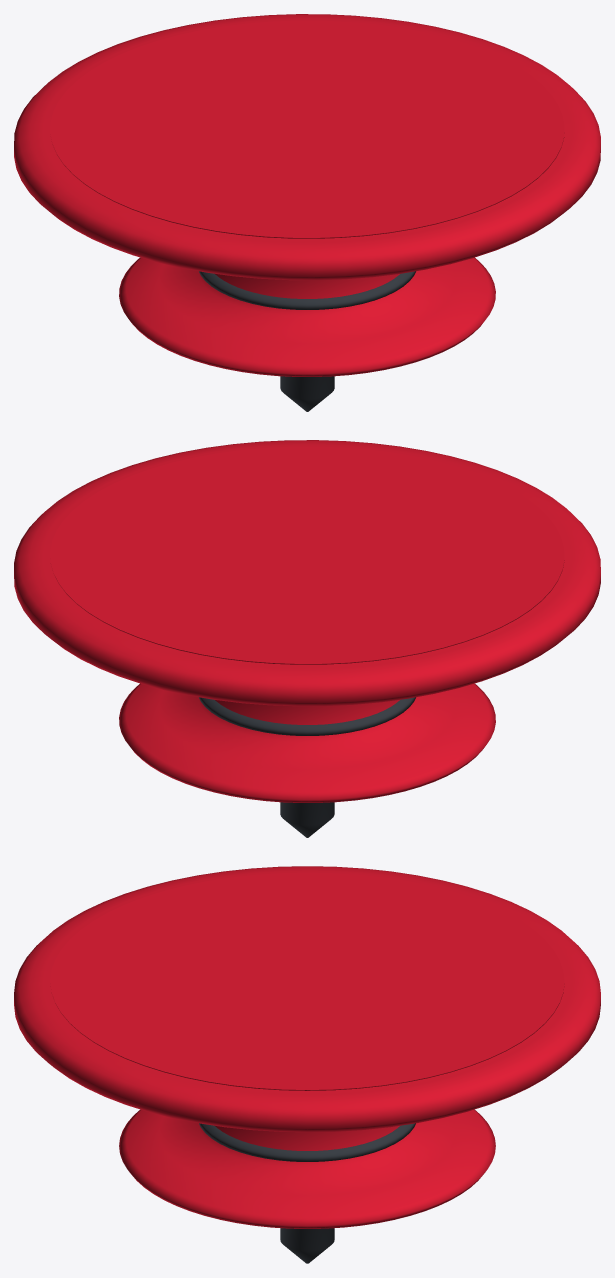
The model's file is PushPin.glb.
3 renders of one model, top to bottom at view 1: azimuth 30°, elevation 25°; view 2: azimuth 150°, elevation 25°; view 3: azimuth 270°, elevation 25°, orthographic.
Visible parts, largest first — view 1: Flat house-number plate, Status body and flat rim, Graphite collar, Graphite shaft; view 2: Flat house-number plate, Status body and flat rim, Graphite collar, Graphite shaft; view 3: Flat house-number plate, Status body and flat rim, Graphite collar, Graphite shaft.
Part boxes in pixels (left/top/right/bottom): Flat house-number plate: left=50, top=20, right=564, bottom=238; Status body and flat rim: left=14, top=14, right=600, bottom=376; Graphite collar: left=199, top=271, right=415, bottom=309; Graphite shaft: left=280, top=376, right=334, bottom=411; Flat house-number plate: left=50, top=446, right=564, bottom=664; Status body and flat rim: left=14, top=440, right=600, bottom=802; Graphite collar: left=199, top=697, right=415, bottom=735; Graphite shaft: left=280, top=802, right=334, bottom=837; Flat house-number plate: left=50, top=872, right=564, bottom=1090; Status body and flat rim: left=14, top=866, right=600, bottom=1228; Graphite collar: left=199, top=1123, right=415, bottom=1161; Graphite shaft: left=280, top=1228, right=334, bottom=1263.
Size of the model in its own units: 9.72 by 5.15 by 9.72.
